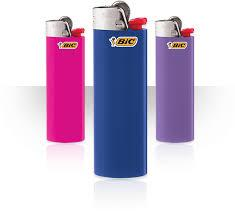lighter: (92, 3, 149, 180), (45, 13, 85, 144), (157, 16, 196, 143)
